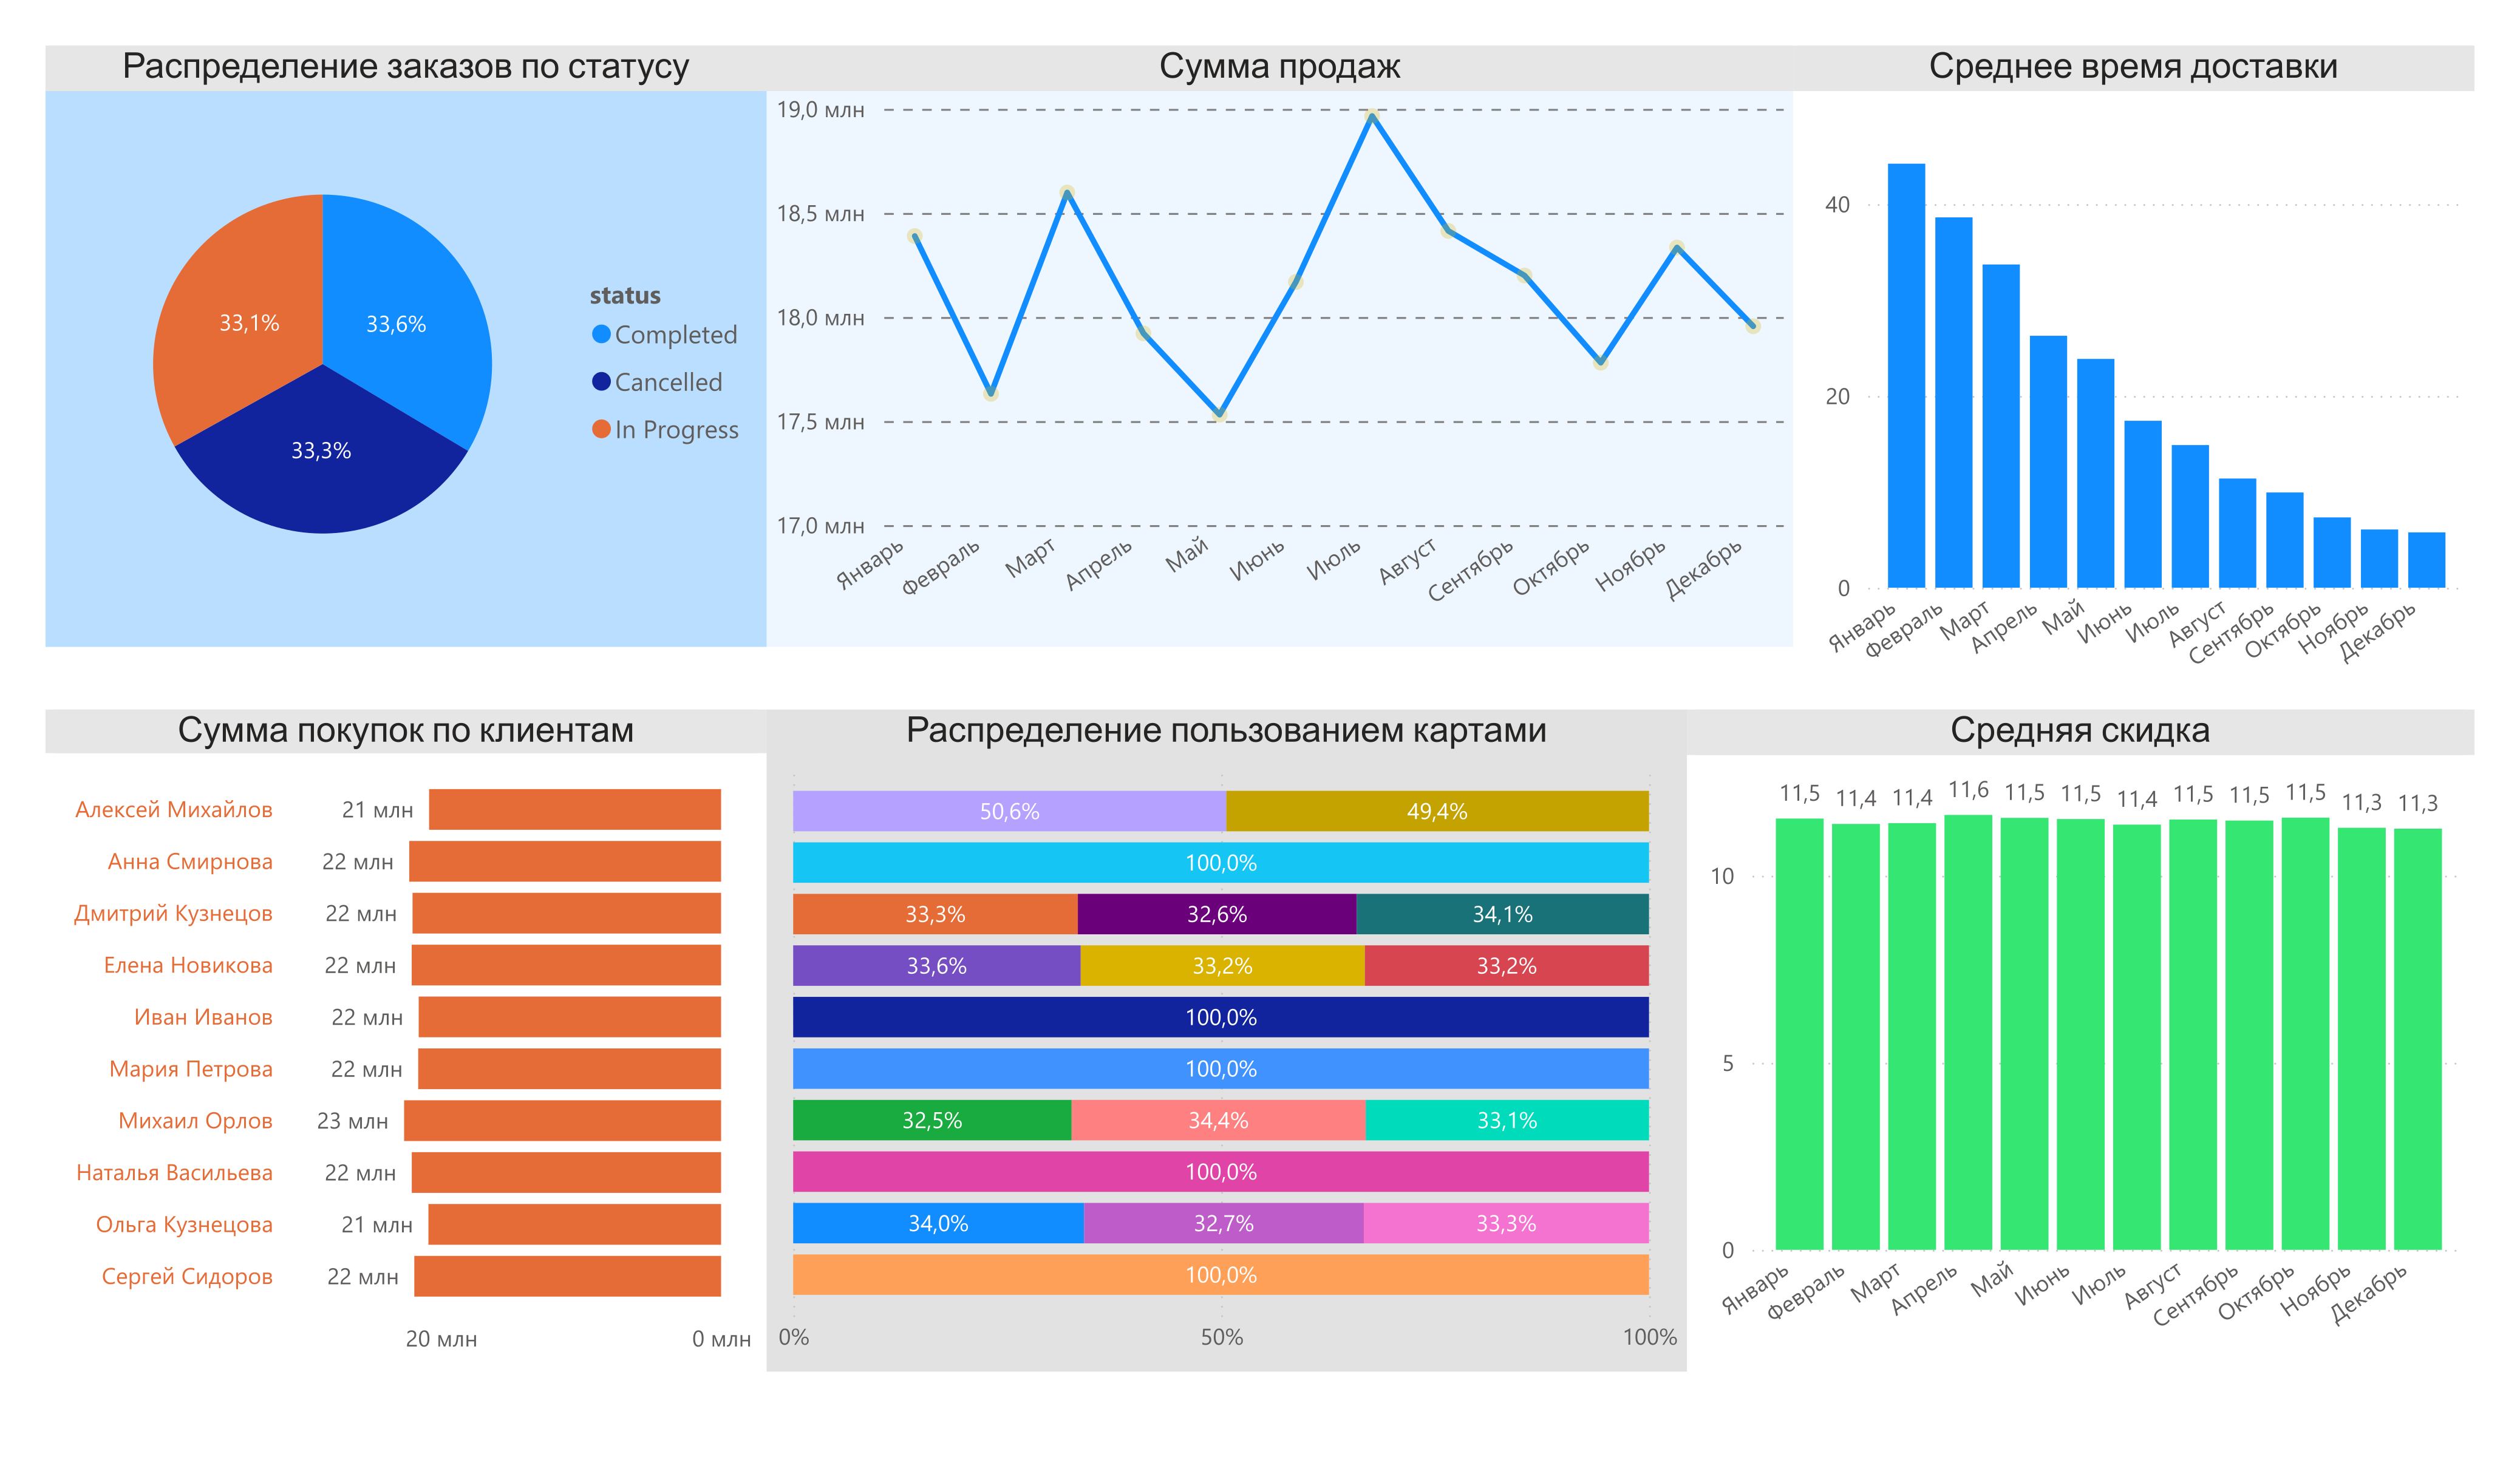

Layout of this report page (visuals, bound fields, positions):
{"tool":"powerbi","page":{"name":"Страница 1","canvas":[1280,720],"ordinal":0},"visuals":[{"type":"pieChart","title":"Распределение заказов по статусу","fields":{"Category":["my_schema orders.status"],"Y":["CountNonNull(my_schema orders.status)"]},"box":[0,0,380,317],"z":0},{"type":"lineChart","title":"Сумма продаж","fields":{"Category":["my_schema orders.order_date.Изменение.Иерархия дат.Месяц"],"Y":["Sum(my_schema orders.total_amount)"]},"box":[380,0,541,317],"z":1000},{"type":"clusteredBarChart","title":"Сумма покупок по клиентам","fields":{"Category":["my_schema customers.name"],"Y":["Sum(my_schema orders.total_amount)"]},"box":[0,350,380,350],"z":2000},{"type":"clusteredColumnChart","title":"Среднее время доставки","fields":{"Category":["orders.order_date.Изменение.Иерархия дат.Месяц"],"Y":["customers.СредняяРазница"]},"box":[921,0,359,350],"z":3000},{"type":"clusteredColumnChart","title":"Средняя скидка","fields":{"Category":["orders.order_date.Изменение.Иерархия дат.Месяц"],"Y":["customers.Средняя скидка"]},"box":[865,349.7,414.7,349.7],"z":4000},{"type":"hundredPercentStackedBarChart","title":"Распределение пользованием картами","fields":{"Category":["customers.name"],"Y":["Sum(orders.total_amount)"],"Series":["orders.gift_card_id"]},"box":[380.4,349.7,484.7,349.7],"z":5000}]}

Visuals, with their boxes on the page's 1280x720 design canvas (x1, y1, x2, y2). These are canvas units, not pixel positions in the 2520x1457 screenshot, which may show the page scaled, cropped or inside an application window:
"Распределение заказов по статусу" pieChart: {"left": 0, "top": 0, "right": 380, "bottom": 317}
"Сумма продаж" lineChart: {"left": 380, "top": 0, "right": 921, "bottom": 317}
"Сумма покупок по клиентам" clusteredBarChart: {"left": 0, "top": 350, "right": 380, "bottom": 700}
"Среднее время доставки" clusteredColumnChart: {"left": 921, "top": 0, "right": 1280, "bottom": 350}
"Средняя скидка" clusteredColumnChart: {"left": 865, "top": 350, "right": 1280, "bottom": 699}
"Распределение пользованием картами" hundredPercentStackedBarChart: {"left": 380, "top": 350, "right": 865, "bottom": 699}
